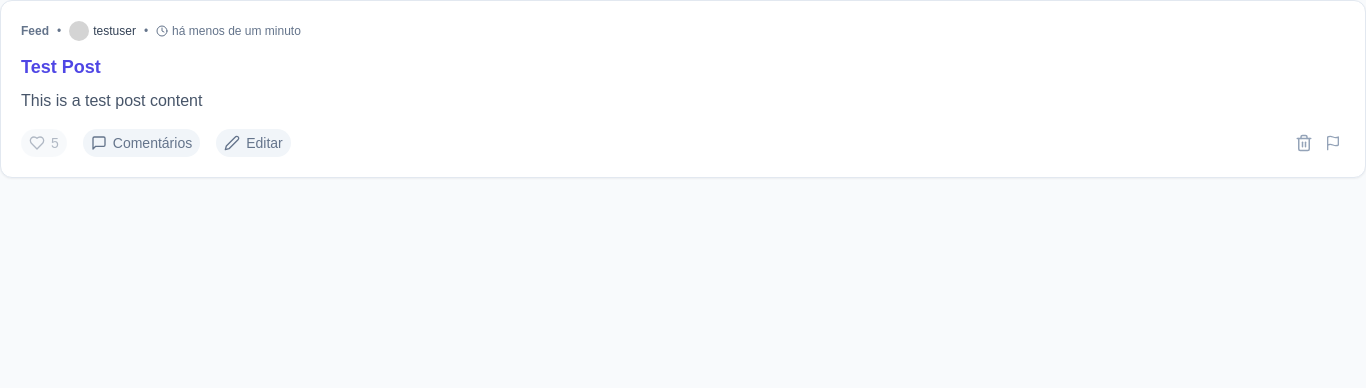
Scenario: FeedPostCard › cancels edit mode when cancel button is clicked
This screenshot has width=1366, height=388.
// Enter edit mode
Click the button "Editar".
click(254, 143)  # box [216, 129, 291, 157]
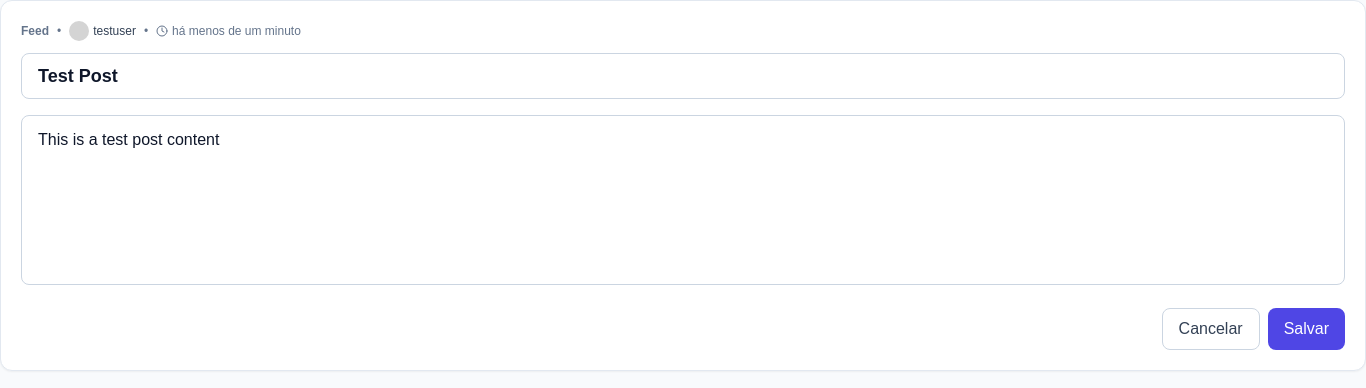
// Cancel edit
Click the button "Cancelar".
click(1211, 329)  # box [1162, 308, 1260, 350]
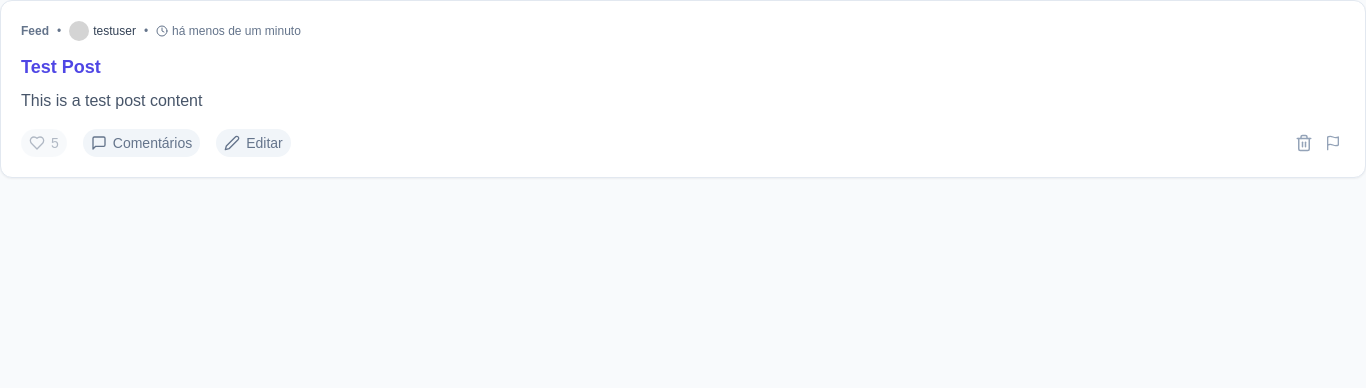
Result: the button "Salvar" is gone
Result: the text "Editar" is shown at [246, 133, 283, 153]
